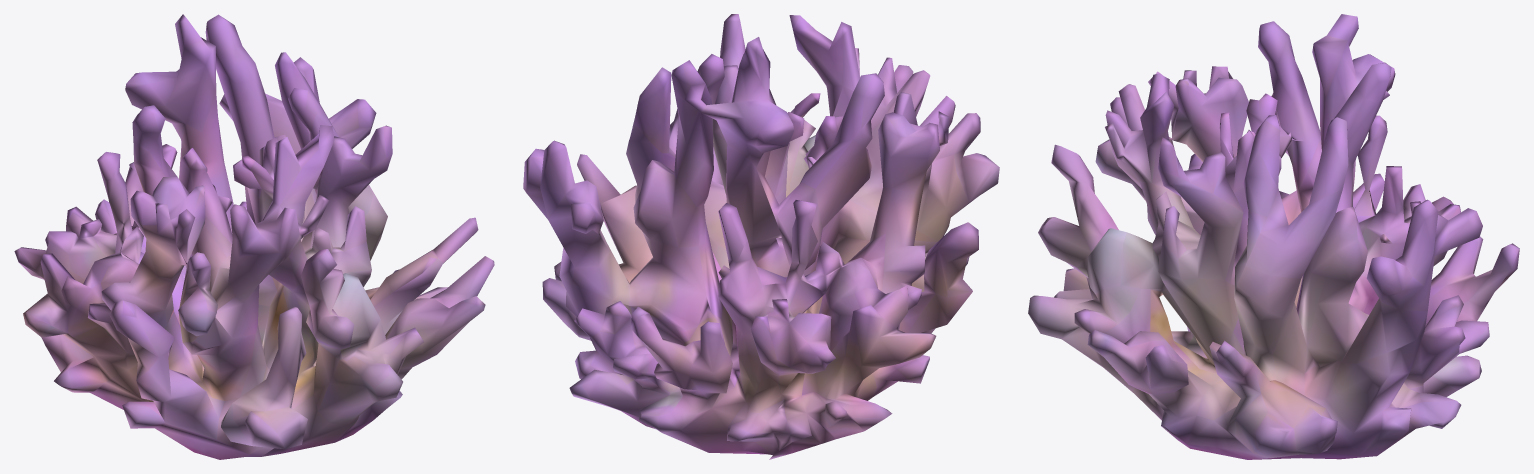
The model's file is cauliflower.glb.
3 renders of one model, left to right at view 1: azimuth 30°, elevation 25°; view 2: azimuth 150°, elevation 25°; view 3: azimuth 270°, elevation 25°, orthographic. The views are drawn at different scales.
Visible parts, largest first — view 1: tripo_node_33e40e7e-49ea-4e09-85f6-a99ae84a2288; view 2: tripo_node_33e40e7e-49ea-4e09-85f6-a99ae84a2288; view 3: tripo_node_33e40e7e-49ea-4e09-85f6-a99ae84a2288.
Boxes of the visible parts, x1,y1,x2,y2 form: tripo_node_33e40e7e-49ea-4e09-85f6-a99ae84a2288: (14, 14, 494, 459); tripo_node_33e40e7e-49ea-4e09-85f6-a99ae84a2288: (523, 14, 999, 459); tripo_node_33e40e7e-49ea-4e09-85f6-a99ae84a2288: (1028, 14, 1519, 459).
Size of the model in its own units: 0.8876 by 0.8531 by 0.9388.
Materials: 1 (1 with a texture image).
